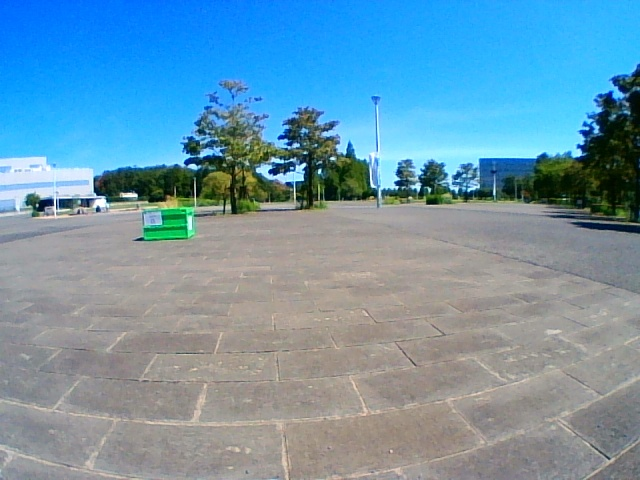green_box: (143, 206, 194, 239)
tag: (145, 211, 161, 225)
